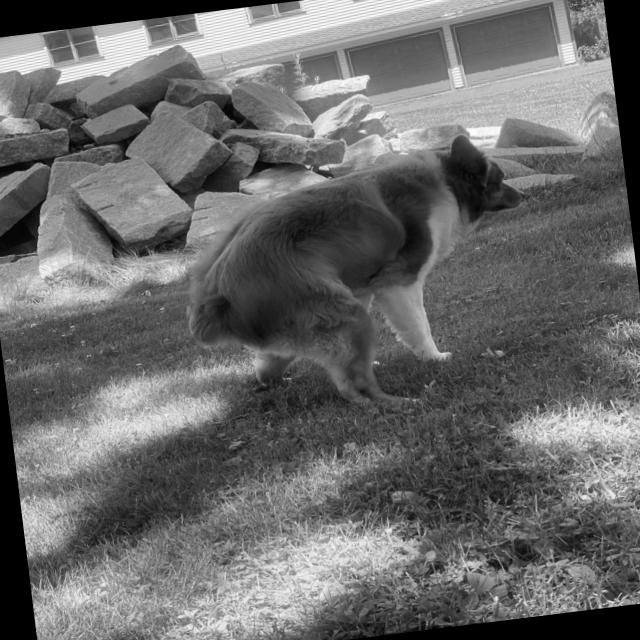squatting: (156, 123, 560, 440)
